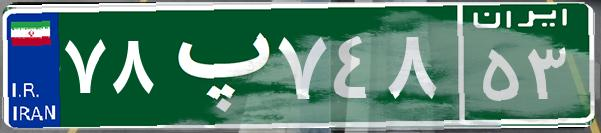3: (525, 38, 570, 115)
4: (330, 28, 385, 110)
5: (475, 38, 525, 113)
7: (273, 28, 330, 110), (57, 26, 110, 107)
8: (385, 28, 445, 110), (110, 28, 158, 105)
پ: (158, 15, 273, 115)
